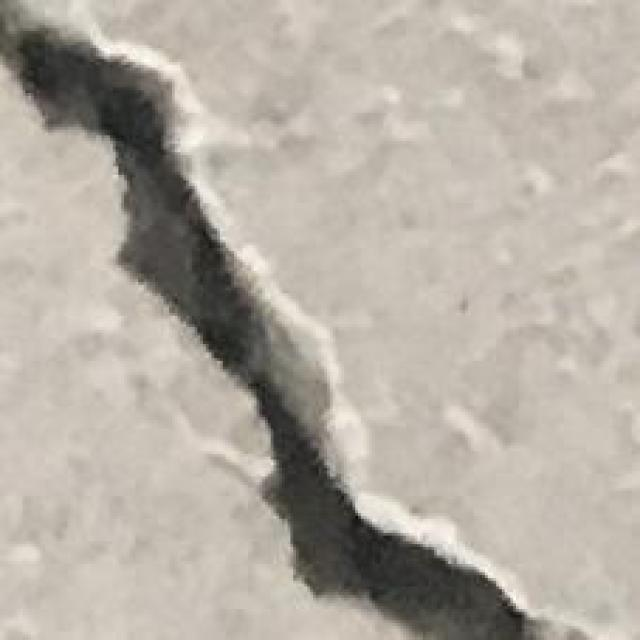Crack: (3, 5, 578, 640)
